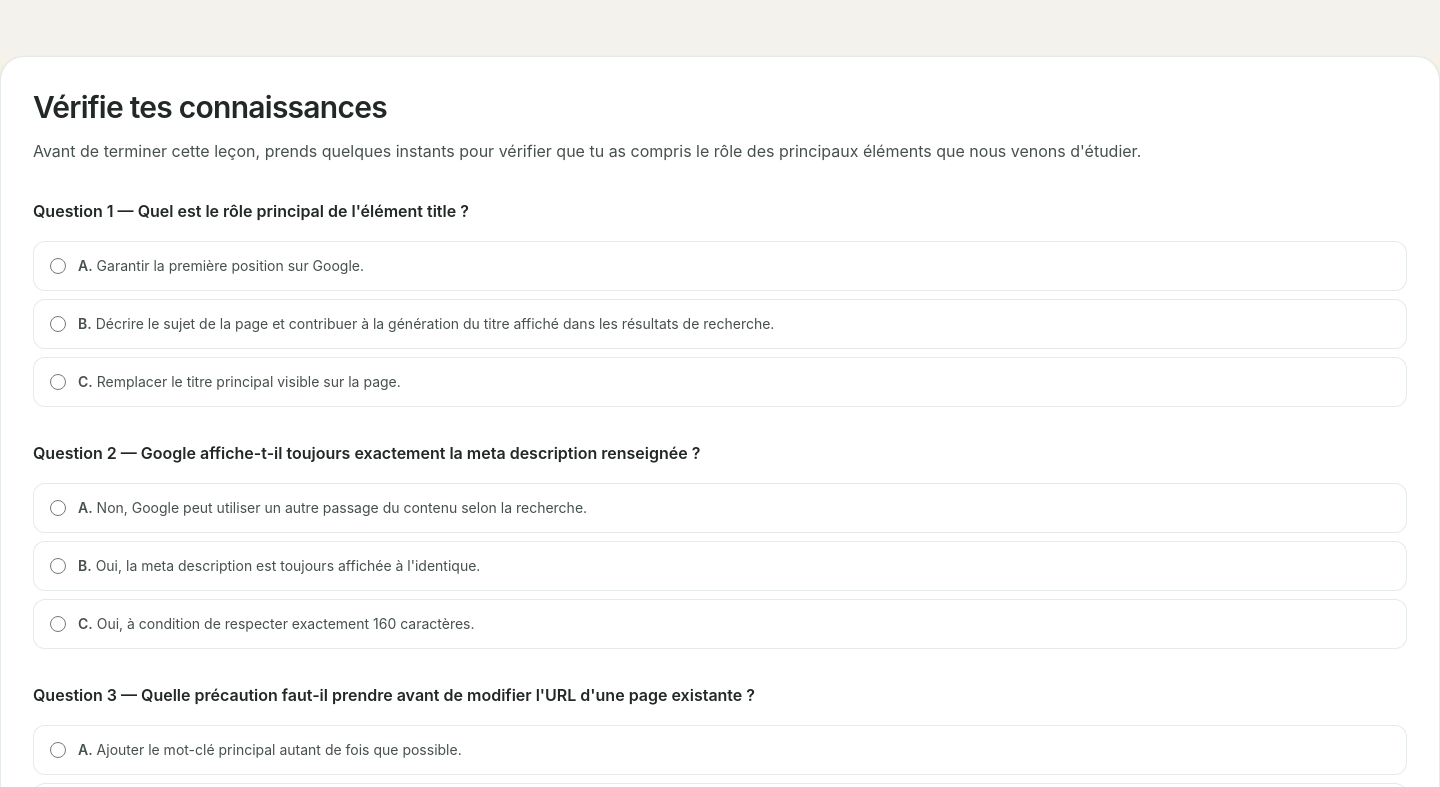
Scenario: questionnaire de la dixième leçon SEO › corrige les quatre questions après validation
Expected: the text "Question 4 : B." is not shown
Click the radio button named "quiz-question-1" at (58, 324), box [50,316,66,332]
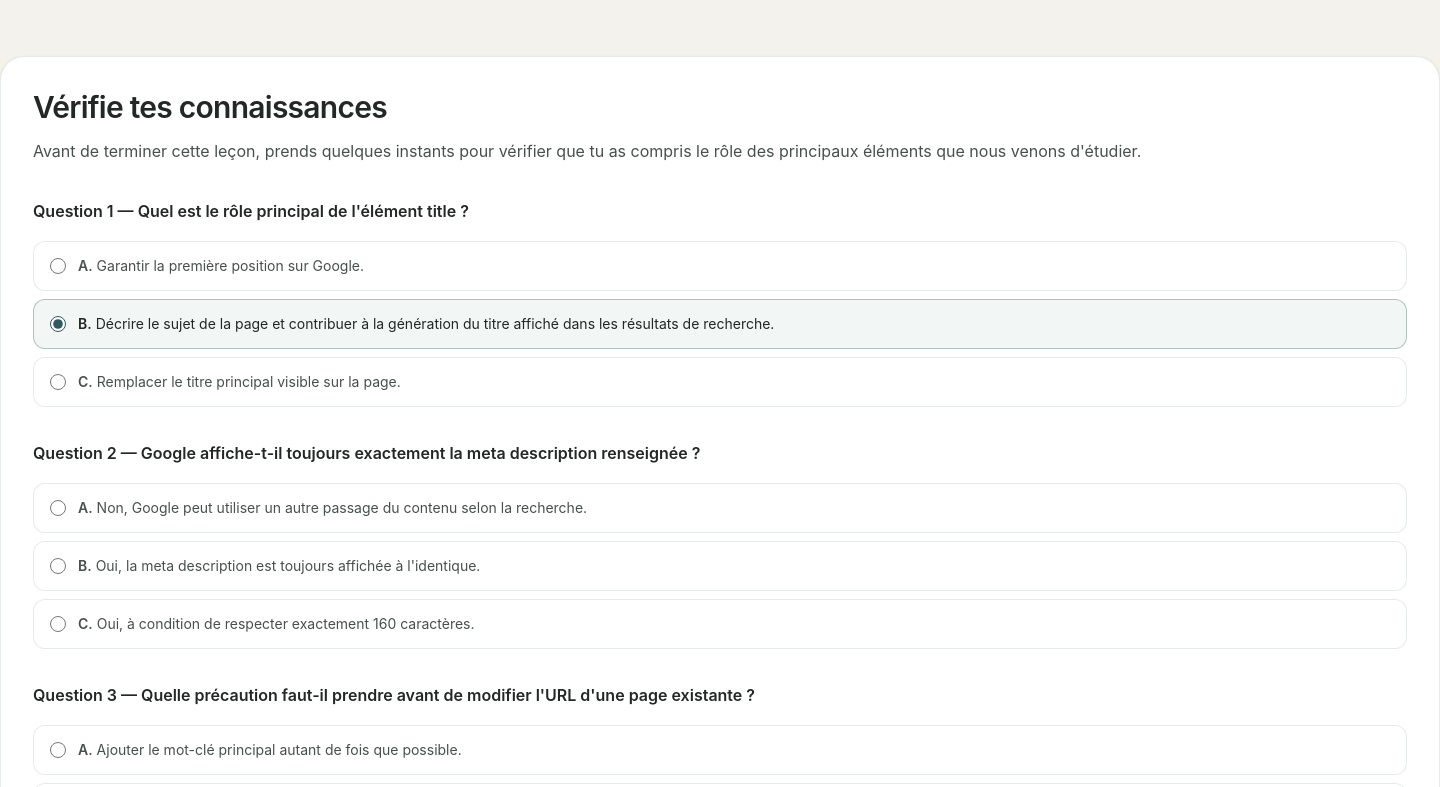
Click the radio button named "quiz-question-2" at (58, 508), box [50,500,66,516]
(page scrolled)
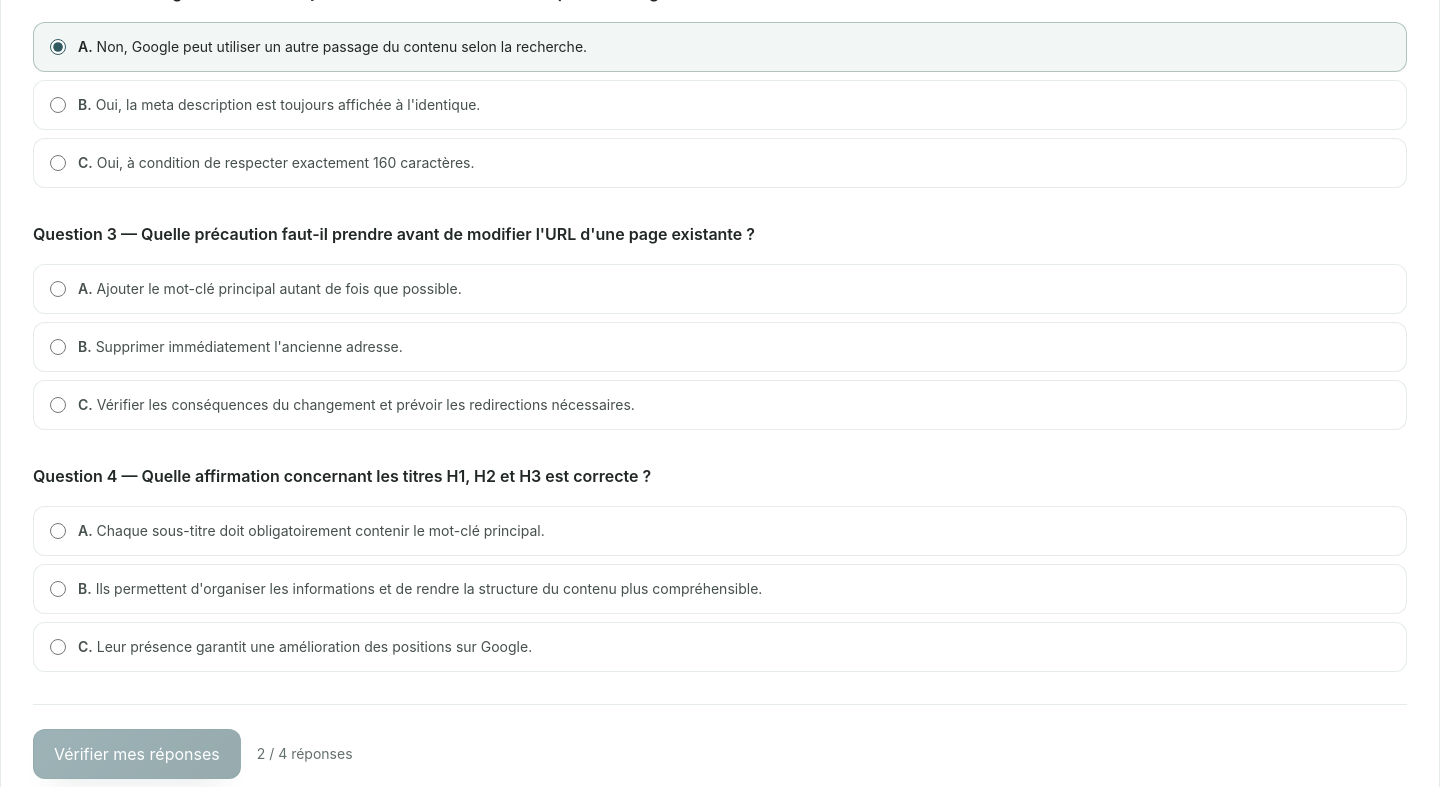
Click the radio button named "quiz-question-3" at (58, 405), box [50,397,66,413]
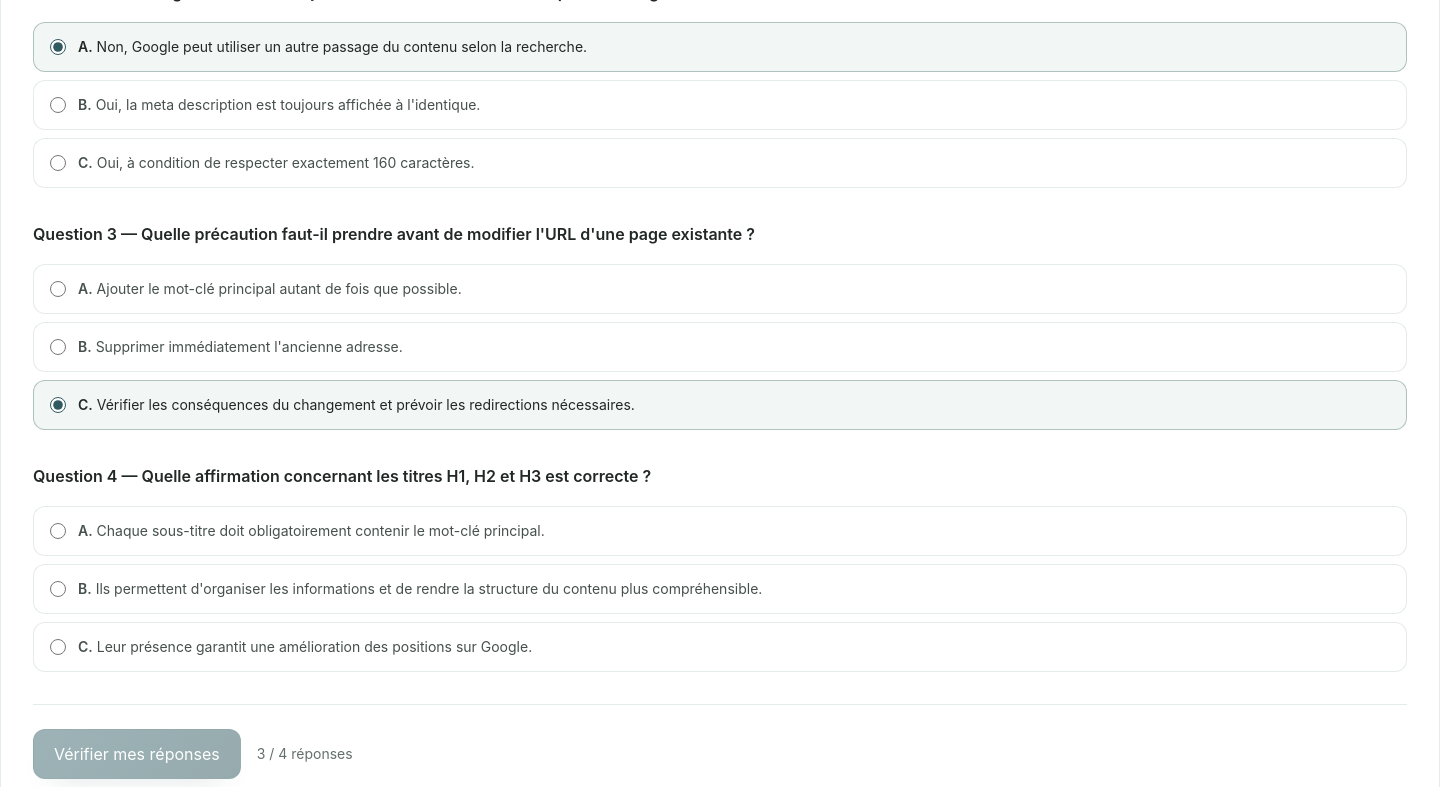
Click the radio button named "quiz-question-4" at (58, 589), box [50,581,66,597]
(page scrolled)
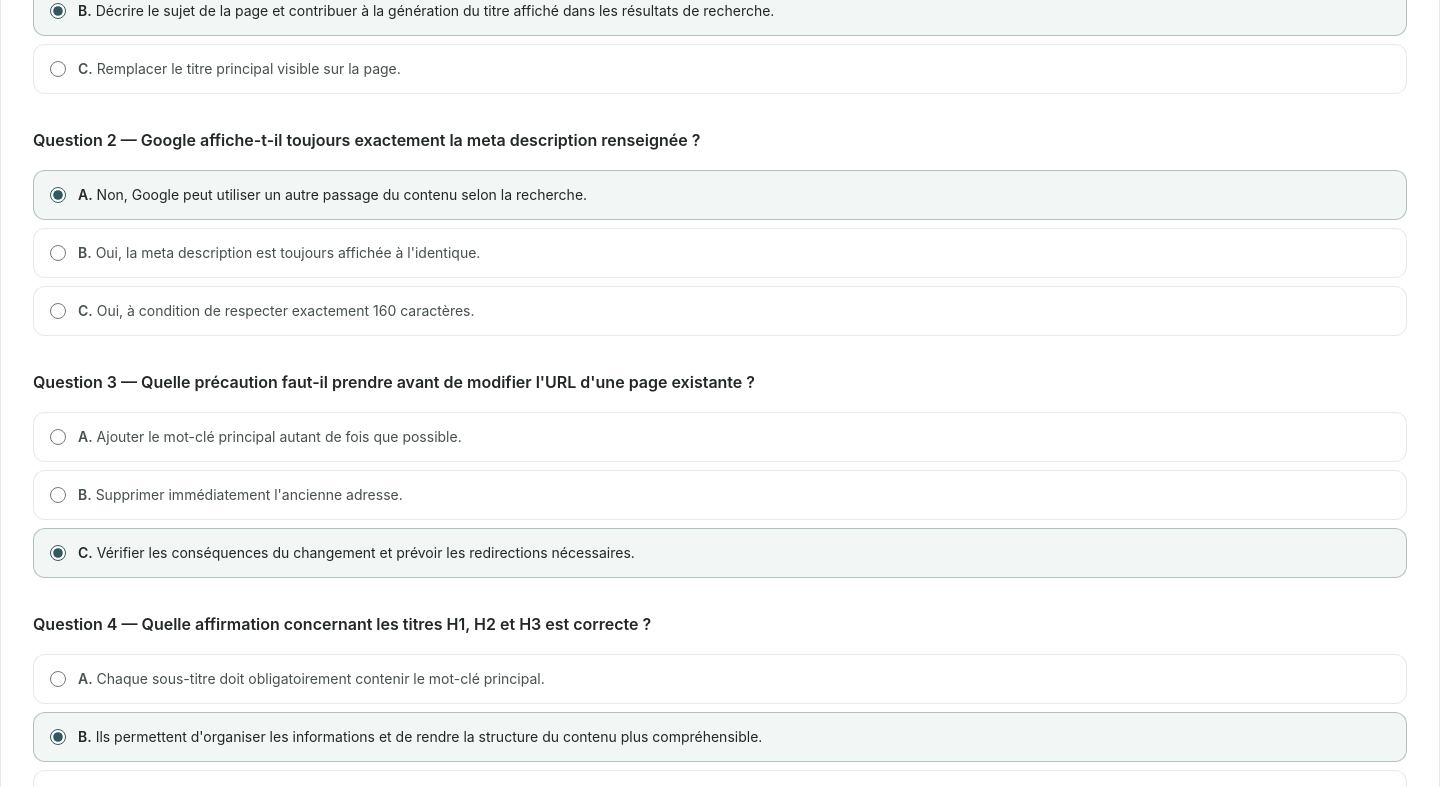
Submit the form
(page scrolled)
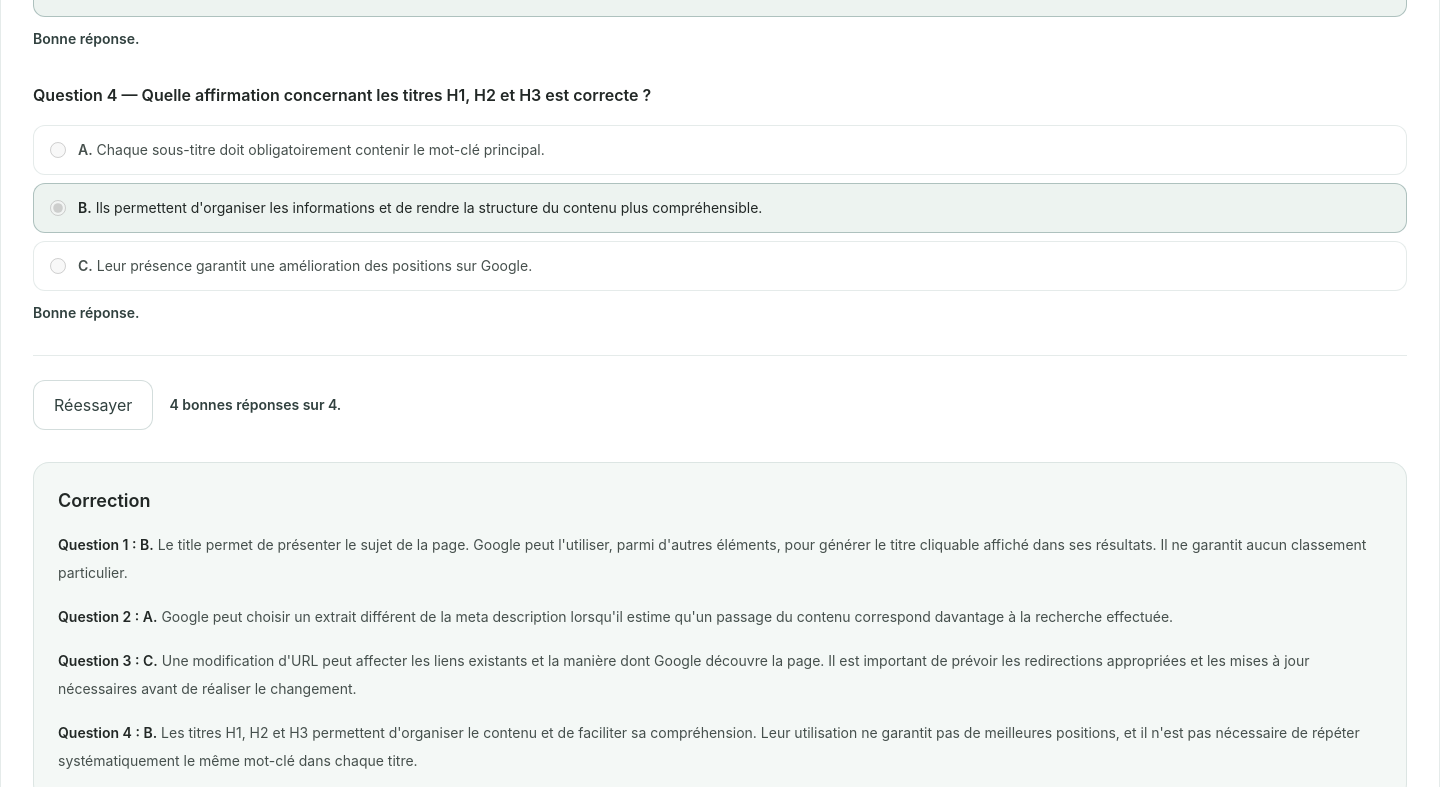
Result: the message "4 bonnes réponses sur 4." is shown at [169,395,341,415]
Result: the text "Question 4 : B." is shown at [58,724,157,741]
Result: the text "faciliter sa compréhension" is shown at [58,724,1360,769]
